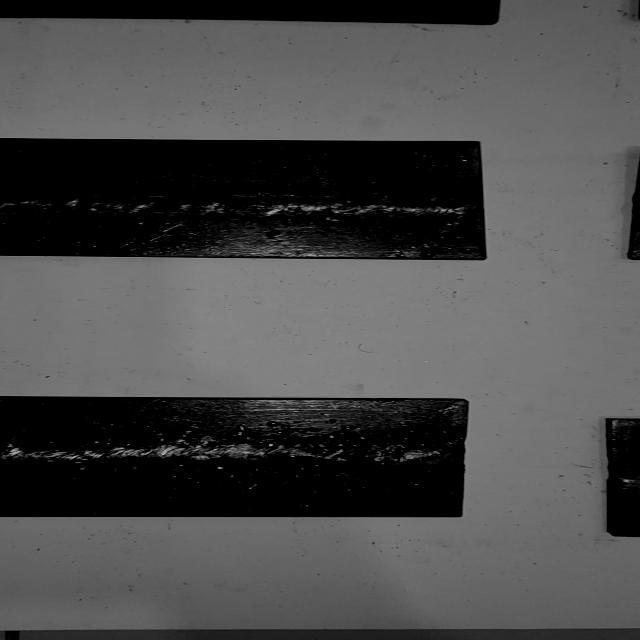Bad Weld: (0, 435, 464, 473), (0, 192, 482, 223)
Defect: (0, 185, 156, 228), (303, 425, 403, 479), (162, 418, 258, 440)
